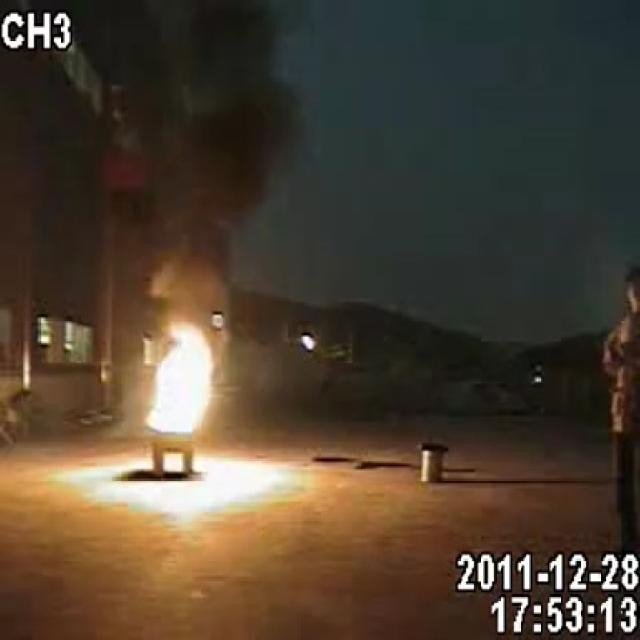Fire: (148, 326, 218, 438)
